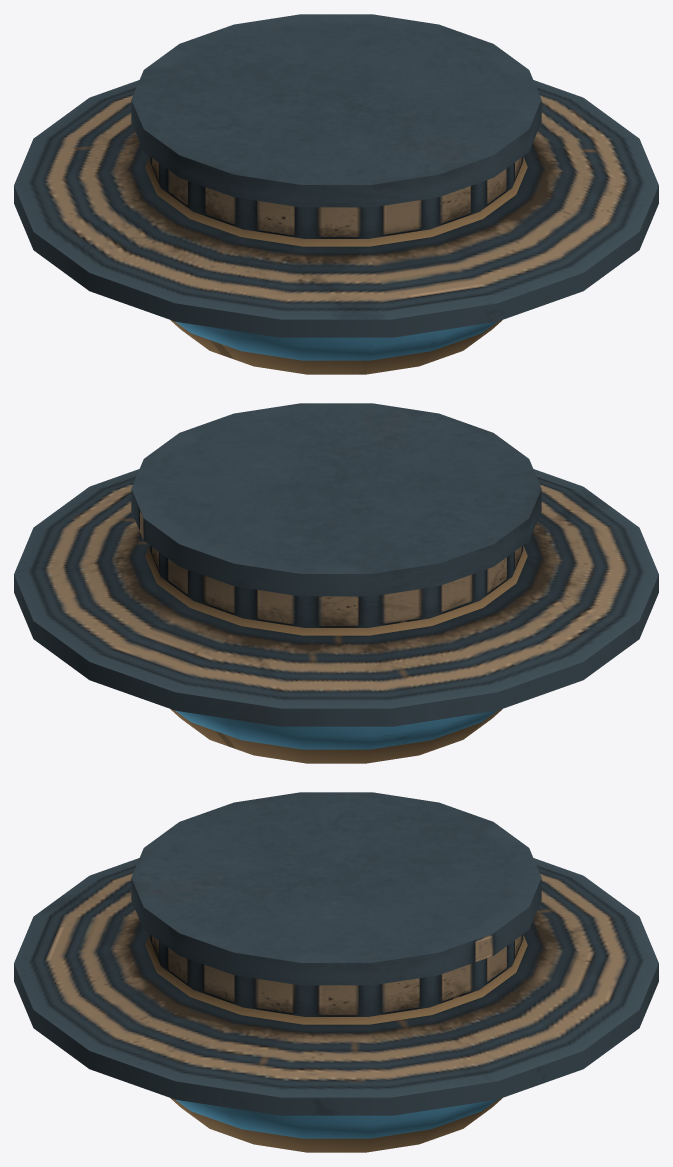
The model's file is Ceiling Light 1.fbx.
3 renders of one model, top to bottom at view 1: azimuth 30°, elevation 25°; view 2: azimuth 150°, elevation 25°; view 3: azimuth 270°, elevation 25°, orthographic.
Parts seen in each view (by area): view 1: Cylinder; view 2: Cylinder; view 3: Cylinder.
Boxes of the visible parts, bbox=[...] form: Cylinder: bbox=[14, 14, 658, 374]; Cylinder: bbox=[14, 403, 658, 763]; Cylinder: bbox=[14, 792, 658, 1152].
Bounding box in the file's own units: 80.59 × 35.63 × 81.84.
